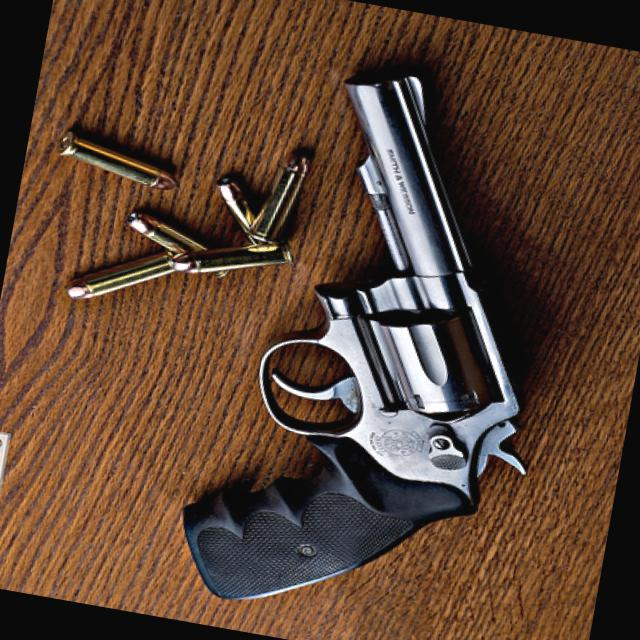handgun: (136, 39, 605, 639)
